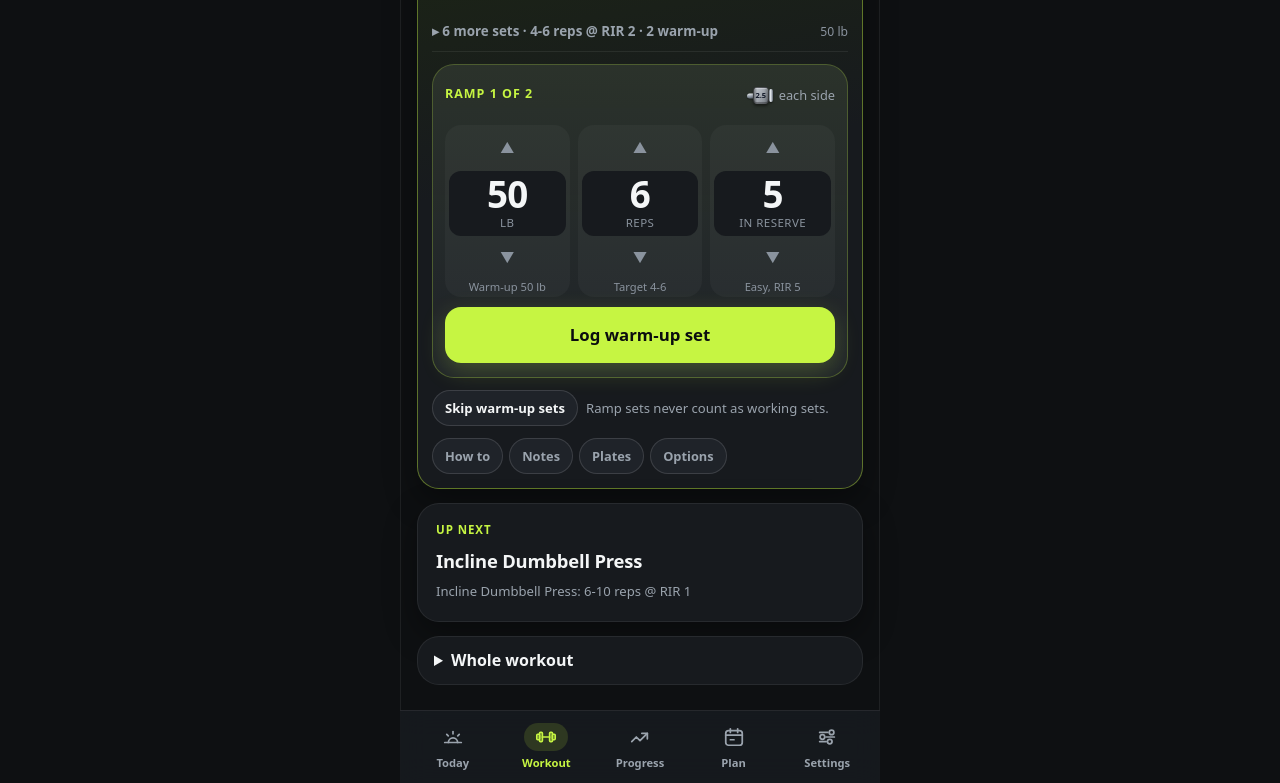
Test case: Options on the Workout tab (item 36) › says a max saved before Maintenance 25 as the max sheet and the engine read it
(page scrolled)
Click the button "Options". click: (688, 456)
box: [650,438,727,474]
(page scrolled)
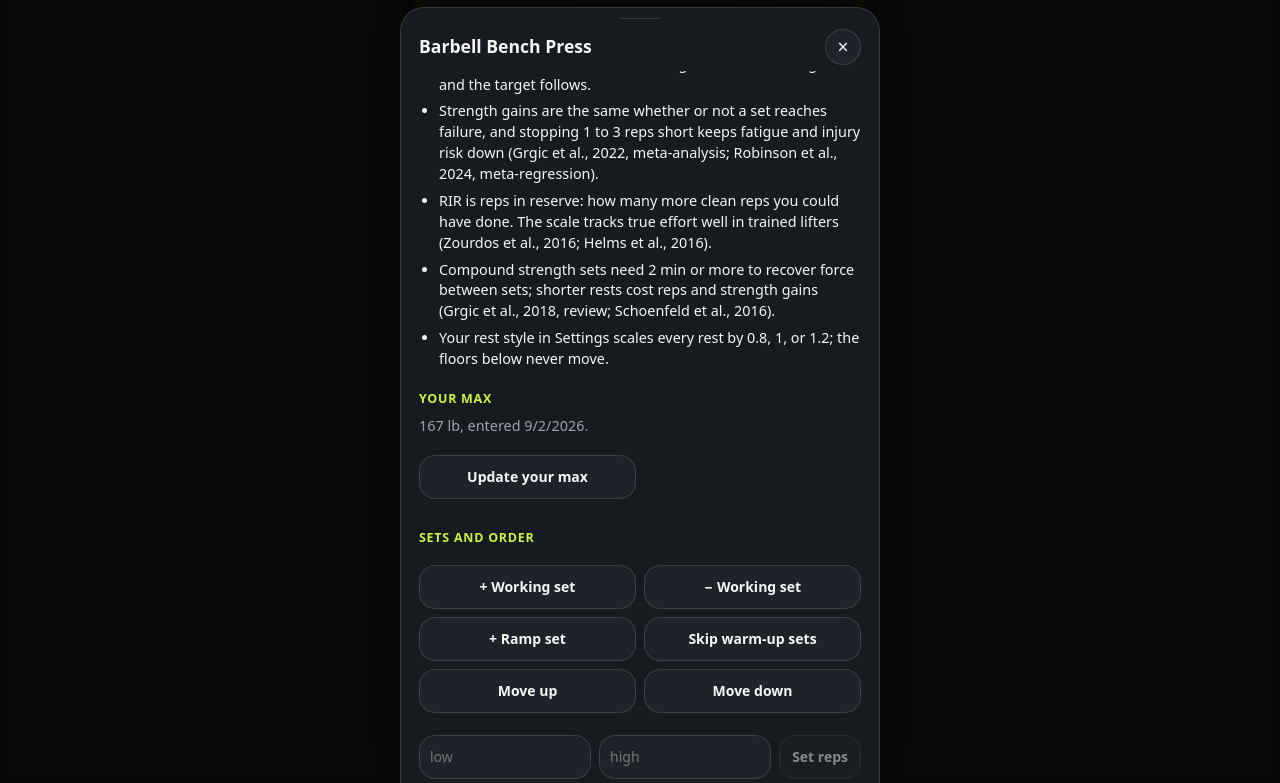
Now the text with test id "max-line" shows "167 lb, entered", box [419,416,588,435]
